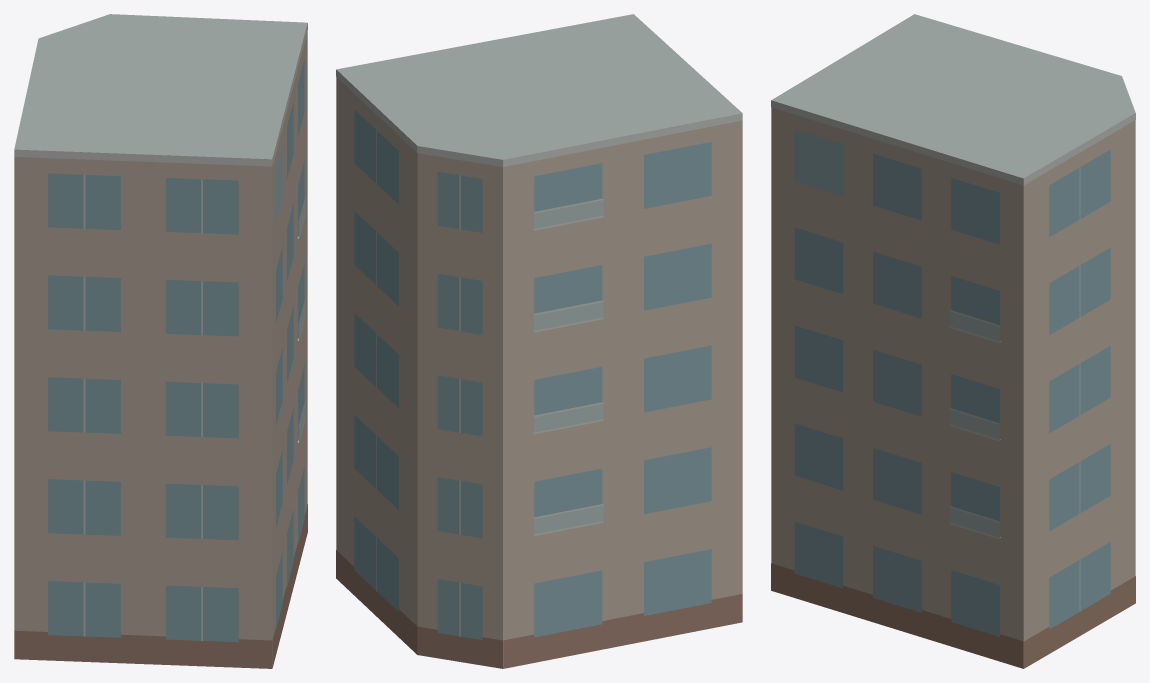
The model's file is survey-upis-32984443.glb.
3 renders of one model, left to right at view 1: azimuth 30°, elevation 25°; view 2: azimuth 150°, elevation 25°; view 3: azimuth 270°, elevation 25°, orthographic. The views are drawn at different scales.
Visible parts, largest first — view 1: survey-upis-32984443.tmp; view 2: survey-upis-32984443.tmp; view 3: survey-upis-32984443.tmp.
Part boxes in pixels (x1,y1,x2,y2): survey-upis-32984443.tmp: (14,14,307,668); survey-upis-32984443.tmp: (336,14,742,668); survey-upis-32984443.tmp: (771,14,1135,668).
Bounding box in the file's own units: 12.38 × 17.2 × 11.6.
